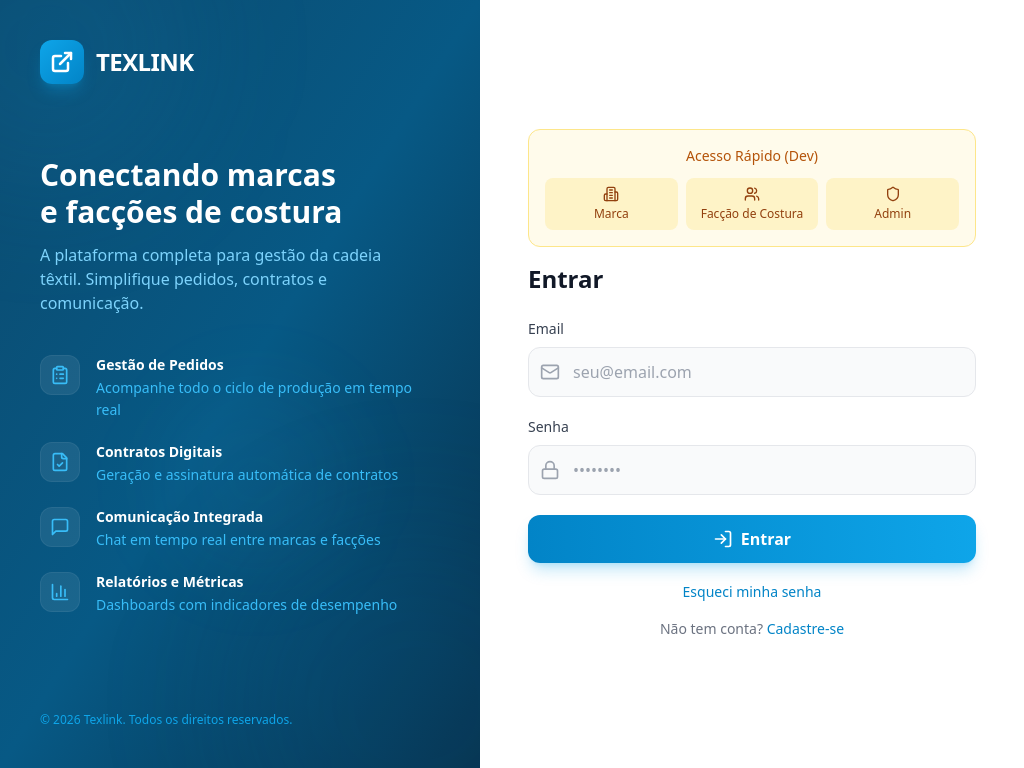
it: LoginPage › should display generic error when no message provided
Type "x@test.com" into the field with placeholder "seu@email.com" at (752, 372), box [528,347,976,397]
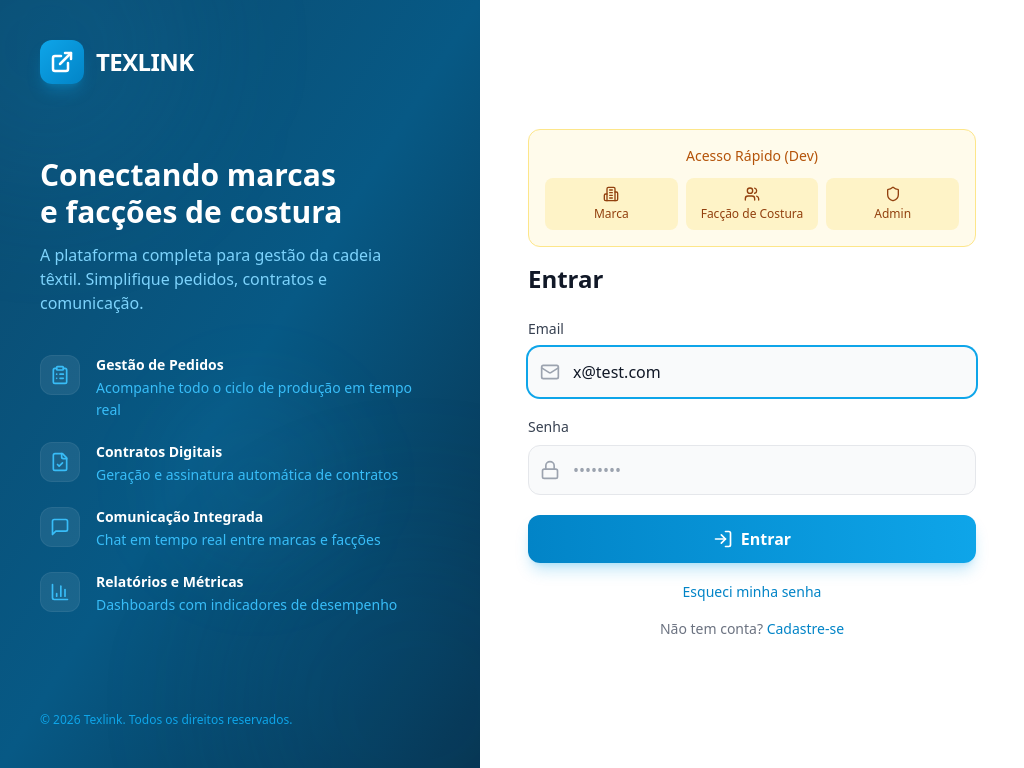
Type "pass" into the password field with placeholder "••••••••" at (752, 470), box [528,445,976,495]
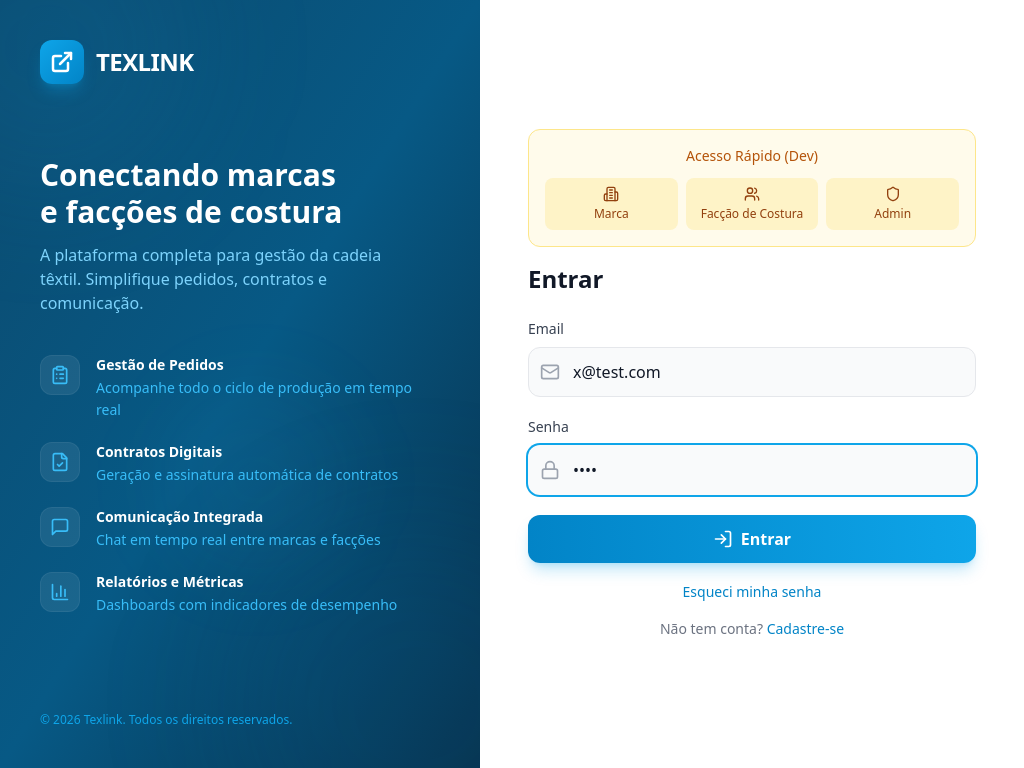
Click the button "Entrar" at (752, 539), box [528,515,976,563]
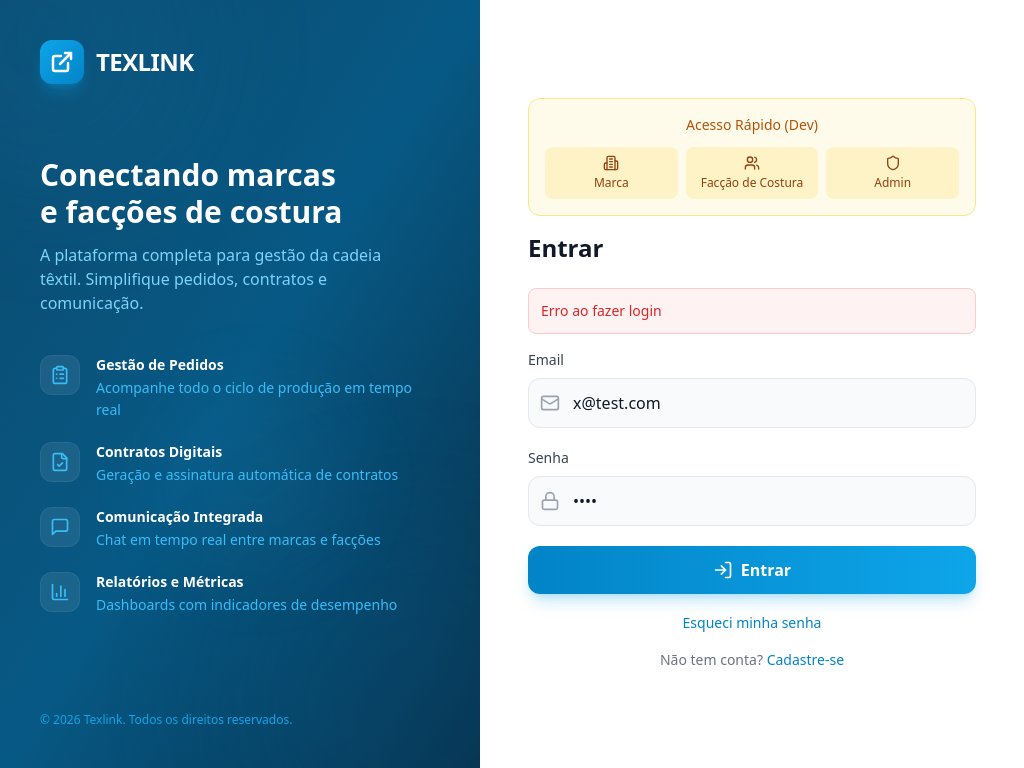
Expected: the text "Erro ao fazer login" is shown, [541,301,662,320]
